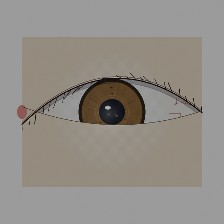pterygium_lesion: (23, 96, 62, 128)
